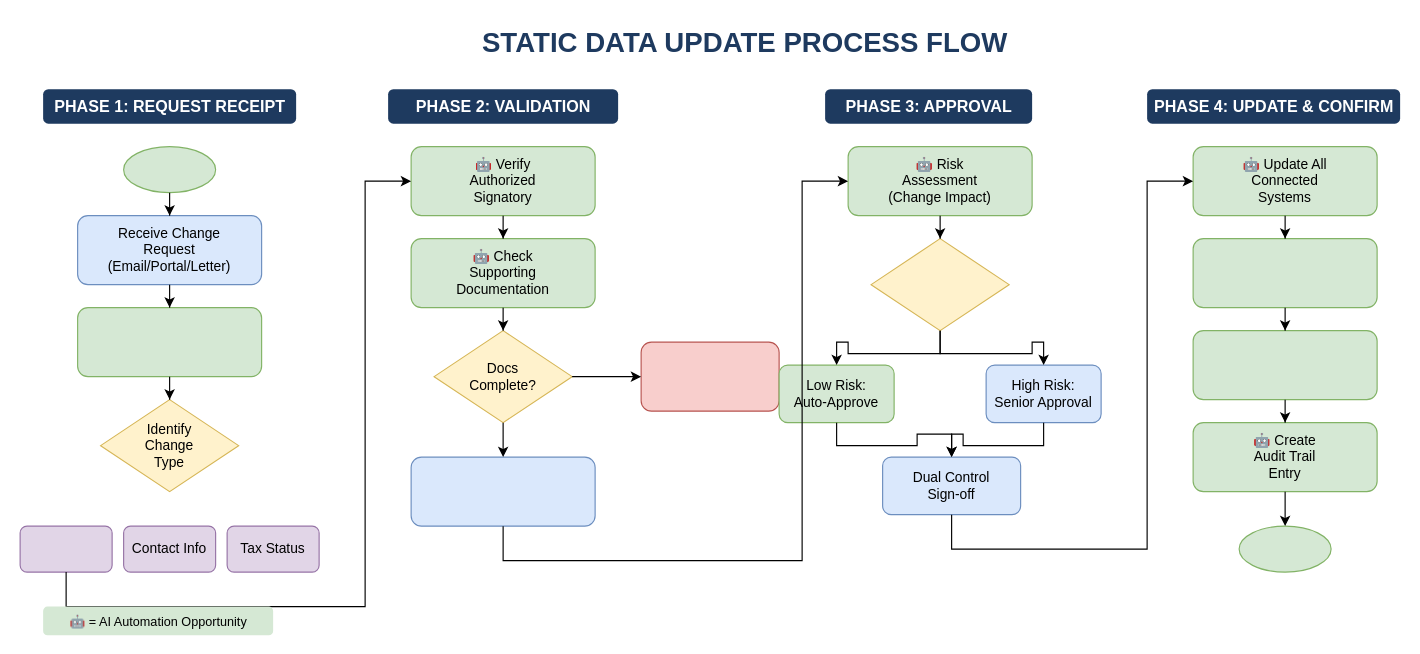
This 1420x654 diagram has some shape labels left out. The box of each missing label's shape, as (x1, y1, x2, y2) in pixels:
Bank Details: (19, 525, 112, 572)
Callback Verification (Bank Changes): (410, 456, 595, 526)
End: (1238, 525, 1331, 572)
Request Missing Documentation: (640, 341, 779, 411)
Risk Level?: (870, 237, 1009, 331)
Start: (122, 145, 216, 193)
🤖 Auto-Log Request in Tracking System: (76, 306, 262, 377)
🤖 Generate Confirmation Letter: (1192, 237, 1377, 308)
🤖 Send Confirmation to Investor: (1192, 329, 1377, 400)
